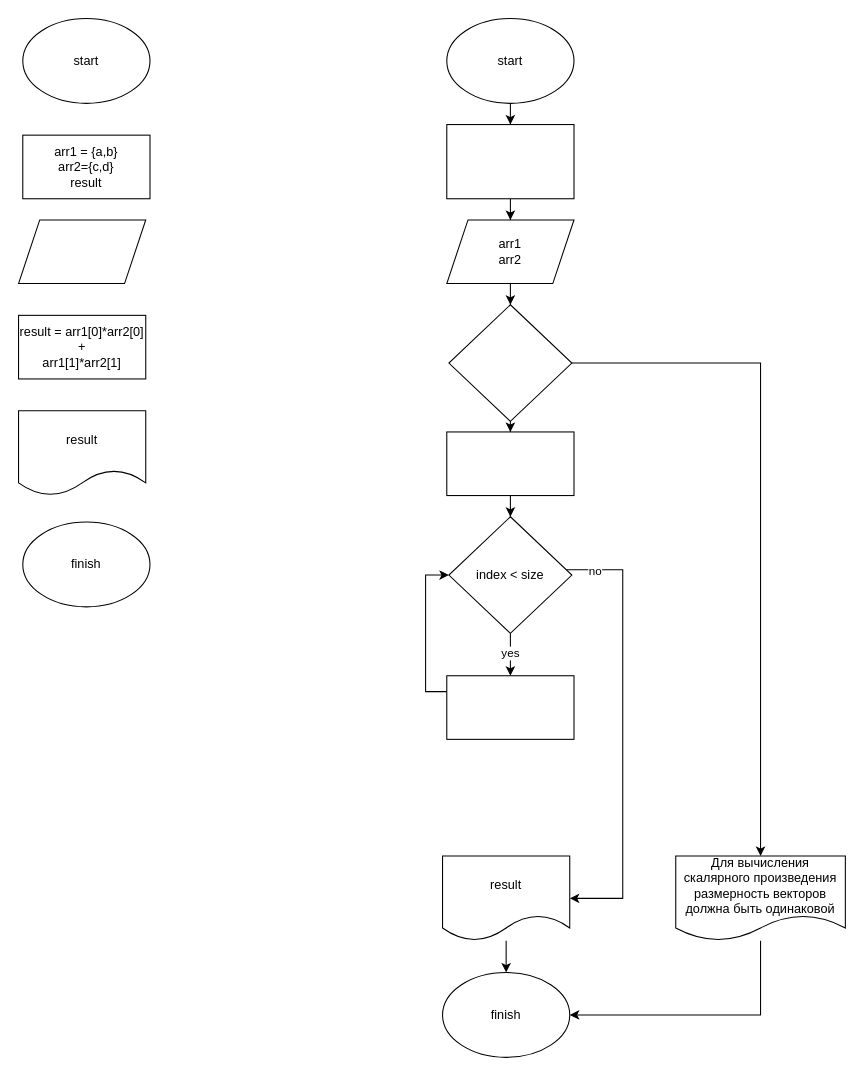
The diagram is 864 pixels wide and 1076 high, and some of its shapes have lost their labels. Each missing label, with the centre of its shape:
"a,b c,d" belongs at point (81, 251).
"arr1 = {} arr2 = {} size index = 0 result" belongs at point (510, 161).
"len(arr1) == len(arr2)" belongs at point (510, 362).
"result = result + arr1[index]*arr2[index] index = index + 1" belongs at point (510, 707).
"size = len(arr1)" belongs at point (510, 463).
